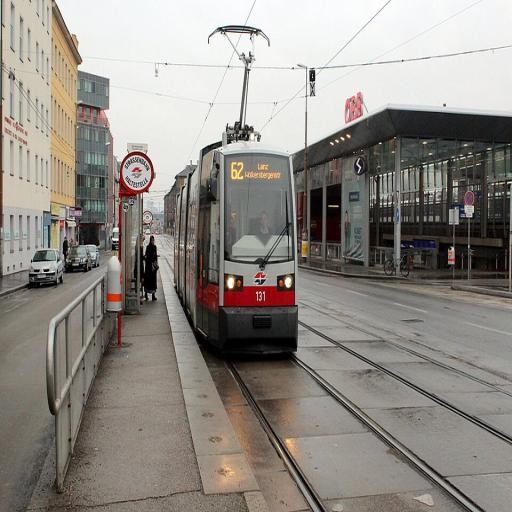ULF: (171, 140, 302, 364)
